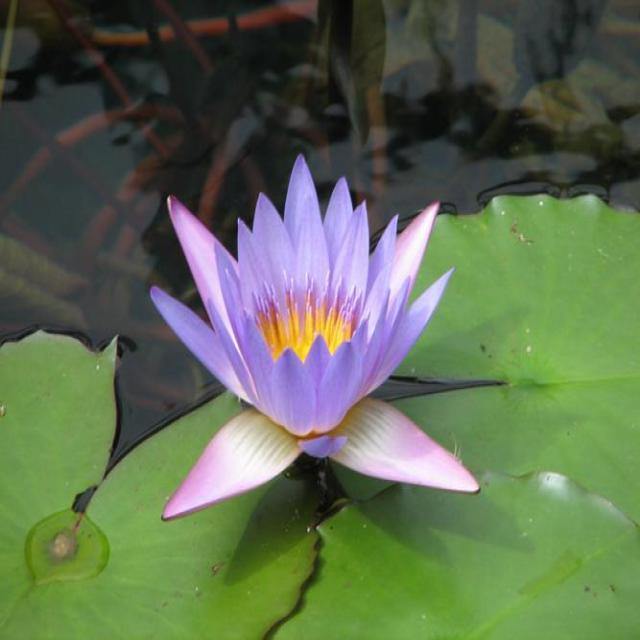water-lily: (144, 168, 453, 472)
